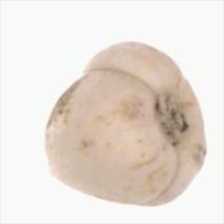L4: (43, 42, 207, 204)
